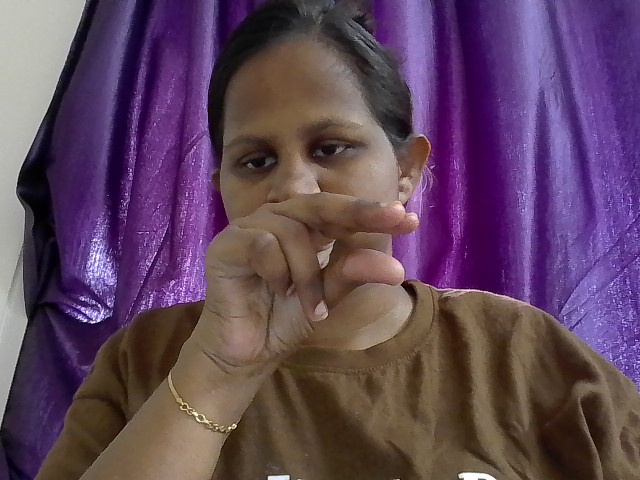NO: (117, 108, 533, 444)
